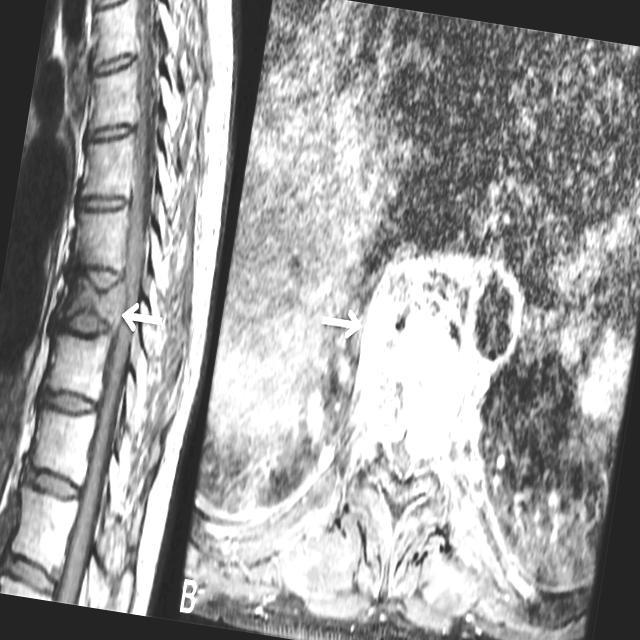Compression-Crush Fracutre: (57, 266, 123, 338)
